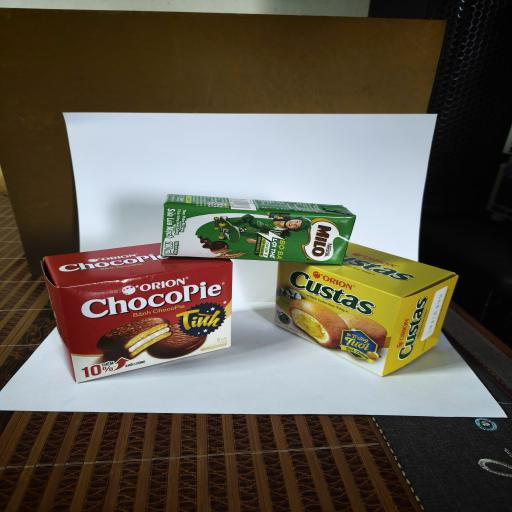chocopie: (42, 242, 234, 384)
custas: (274, 242, 458, 377)
milo: (160, 194, 356, 265)
